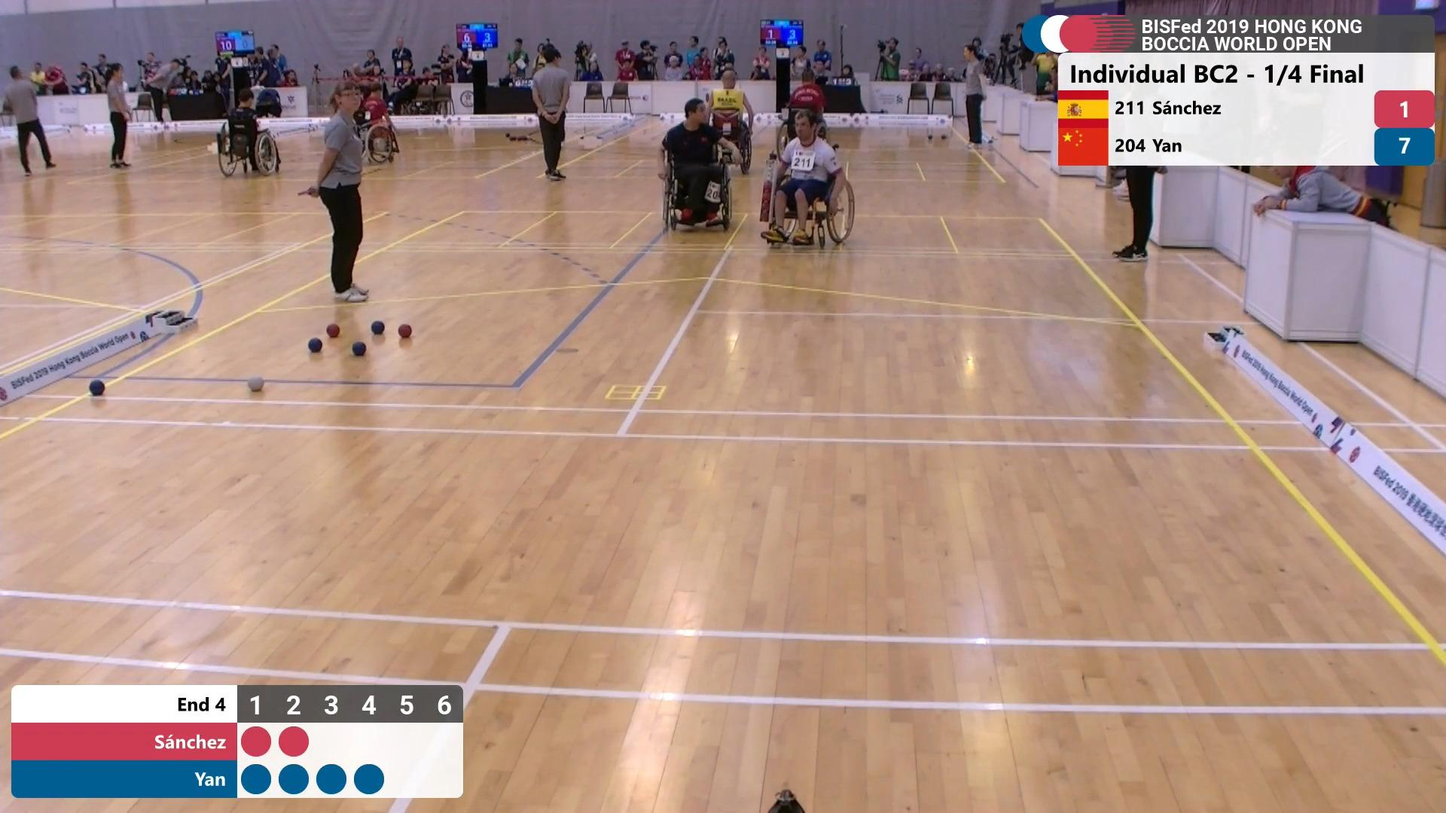blue_ball: (88, 379, 108, 398), (351, 340, 369, 358), (306, 337, 324, 354), (370, 319, 386, 336)
red_ball: (397, 323, 414, 339), (325, 323, 340, 339)
white_ball: (246, 374, 266, 393)
